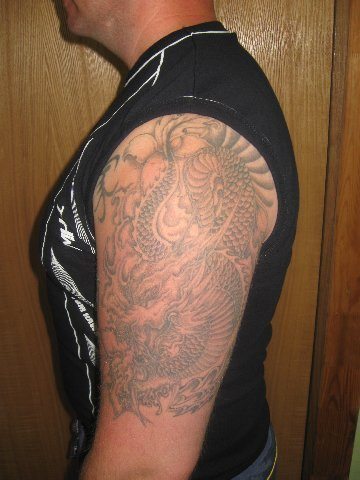tatu6_drakon: (130, 122, 252, 417)
